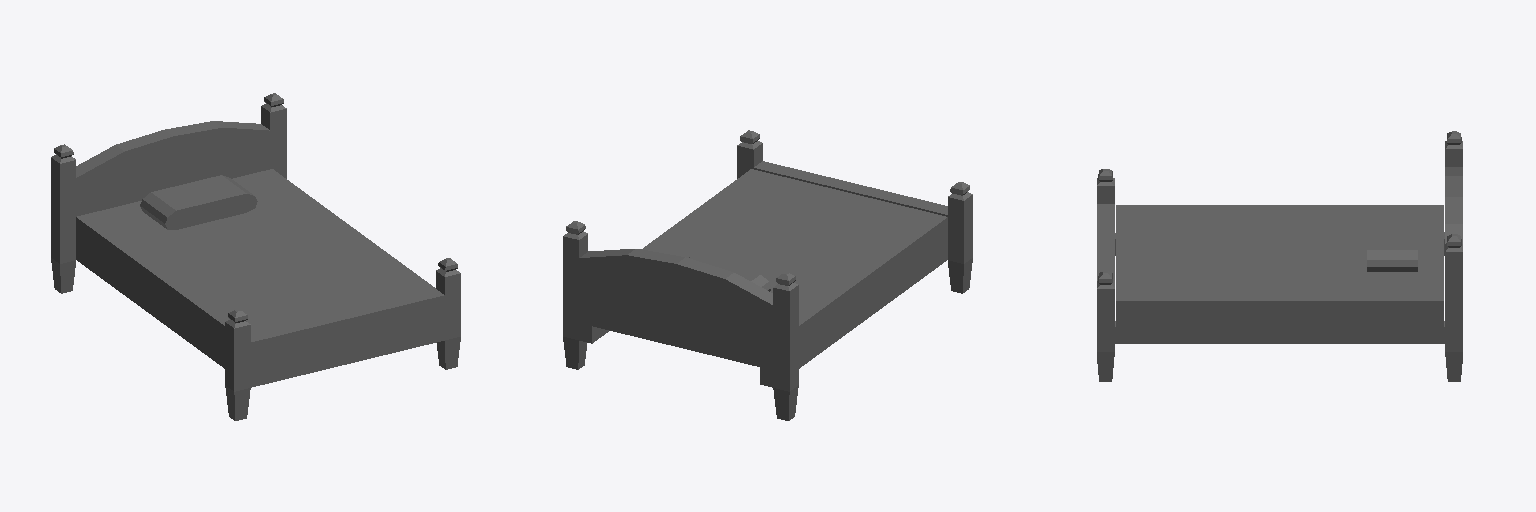
File: Poor_Bed.obj
3 renders of one model, left to right at view 1: azimuth 30°, elevation 25°; view 2: azimuth 150°, elevation 25°; view 3: azimuth 270°, elevation 25°, orthographic.
Parts seen in each view (by area): view 1: Poor_Bed_3; view 2: Poor_Bed_3; view 3: Poor_Bed_3.
Part boxes in pixels (x1,y1,x2,y2): Poor_Bed_3: (51, 93, 460, 420); Poor_Bed_3: (563, 130, 972, 420); Poor_Bed_3: (1097, 131, 1462, 381).
Size of the model in its own units: 1.63 by 0.9886 by 2.28.